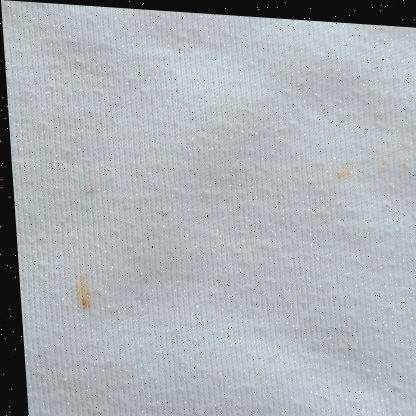spot: (57, 260, 100, 314), (322, 149, 354, 183)
